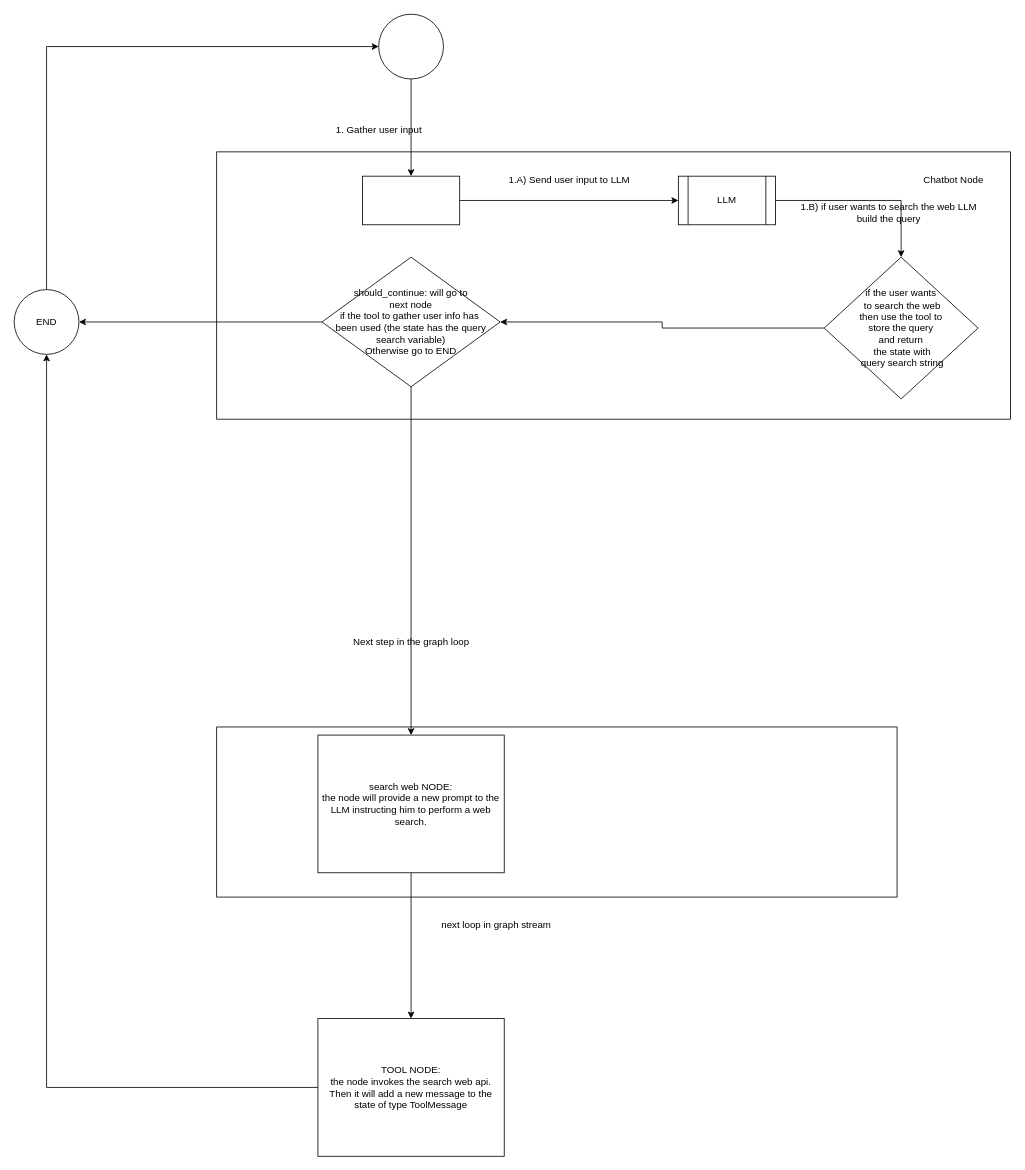
The diagram is 1025 pixels wide and 1170 high, and some of its shapes have lost their labels. Here are the shapes that lost their labels. From the top down, the box of each, then its label:
(378, 13, 443, 79): Start
(362, 175, 460, 225): chatbot
